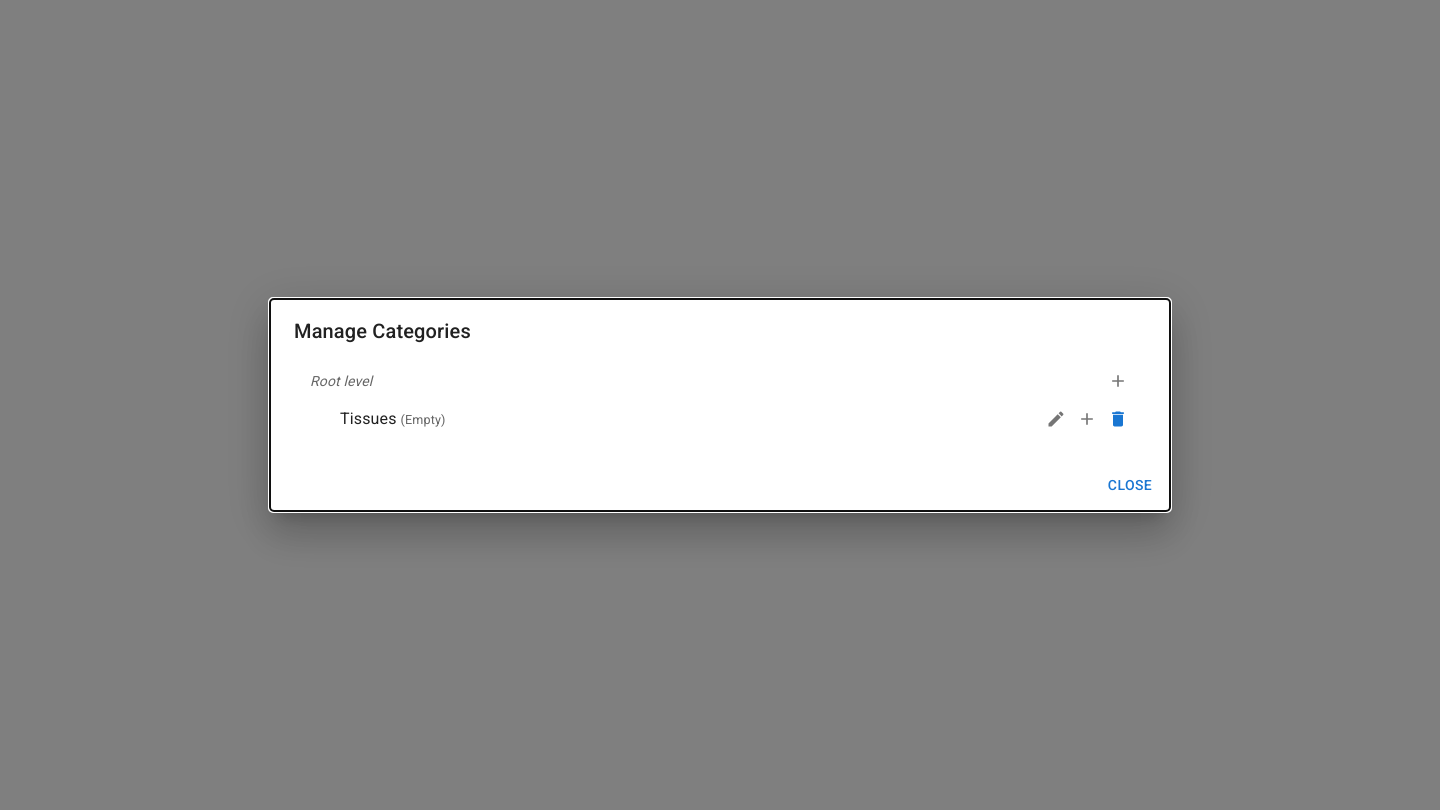
Test: ManageCategoriesDialog — delete category › opens confirmation dialog when delete button is clicked
This screenshot has width=1440, height=810.
What coordinates should you click on to do the following:
click the button named "Delete category"
I would click on:
 (1118, 419)
Its box is [1103,404,1133,434].
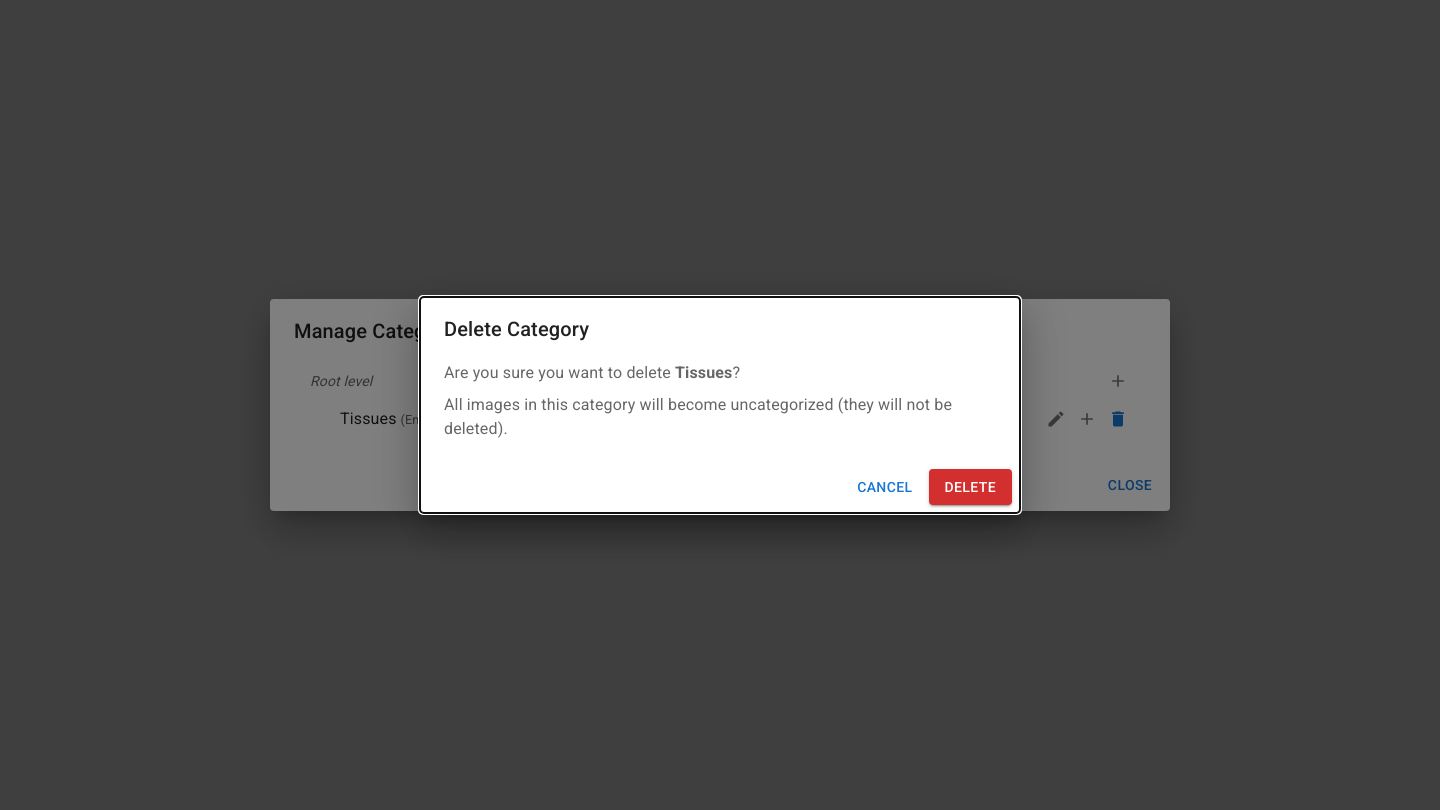
Expected: the heading "Delete Category" is shown, [444,317,589,341]
Expected: the text "Are you sure you want to delete Tissues?" is shown, [444,363,740,382]
